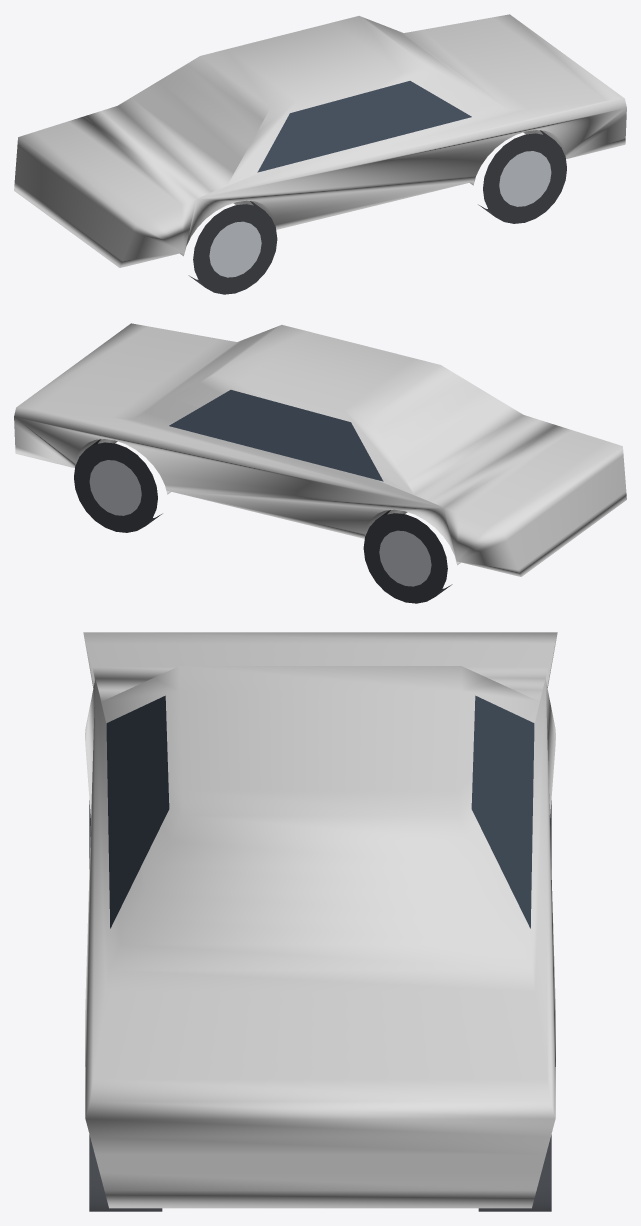
The model's file is bavar320.glb.
The picture shows the model from 3 angles, top to bottom: view 1: azimuth 30°, elevation 25°; view 2: azimuth 150°, elevation 25°; view 3: azimuth 270°, elevation 25°; orthographic projection. The views are drawn at different scales.
Visible parts, largest first — view 1: Car; view 2: Car; view 3: Car.
Boxes of the visible parts, left/top/right/bottom form: Car: left=14, top=14, right=626, bottom=294; Car: left=14, top=323, right=626, bottom=603; Car: left=83, top=632, right=557, bottom=1211.
Bounding box in the file's own units: 3.84 × 1.14 × 1.56.
